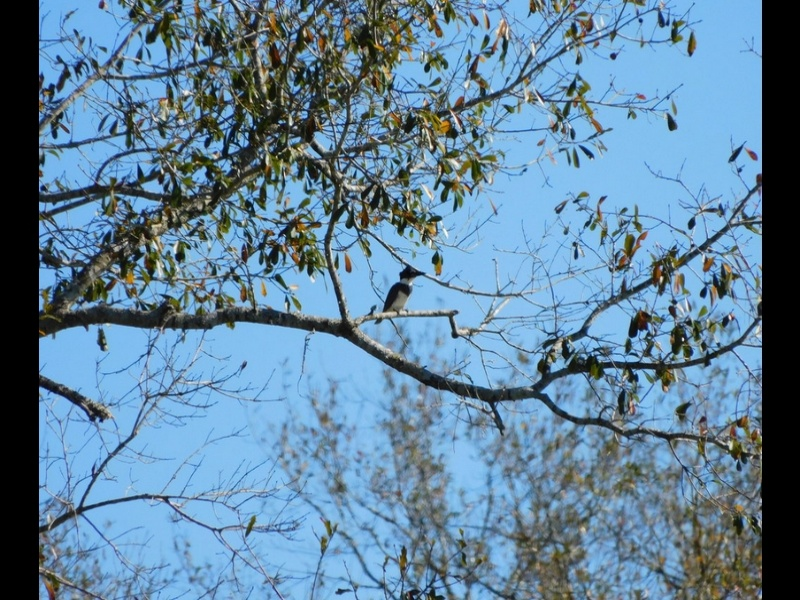kingfisher: (376, 265, 424, 326)
